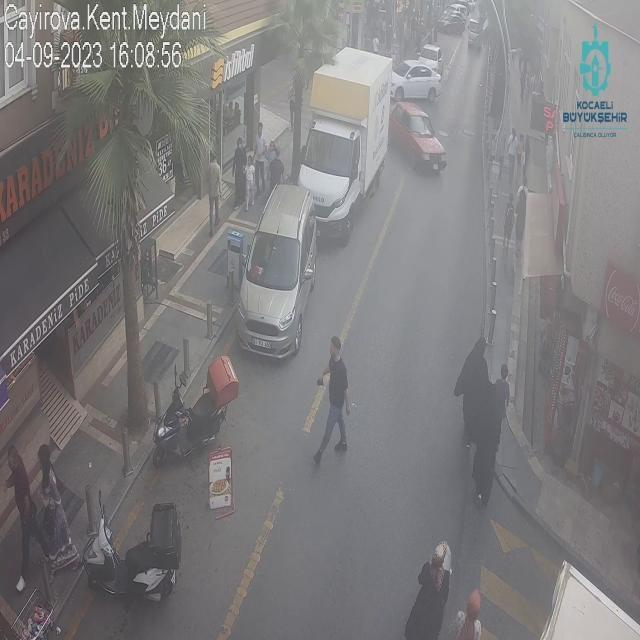Car: (391, 100, 447, 178)
Cycle: (150, 356, 242, 468)
Truck: (299, 49, 392, 236)
Van: (233, 181, 314, 360)
